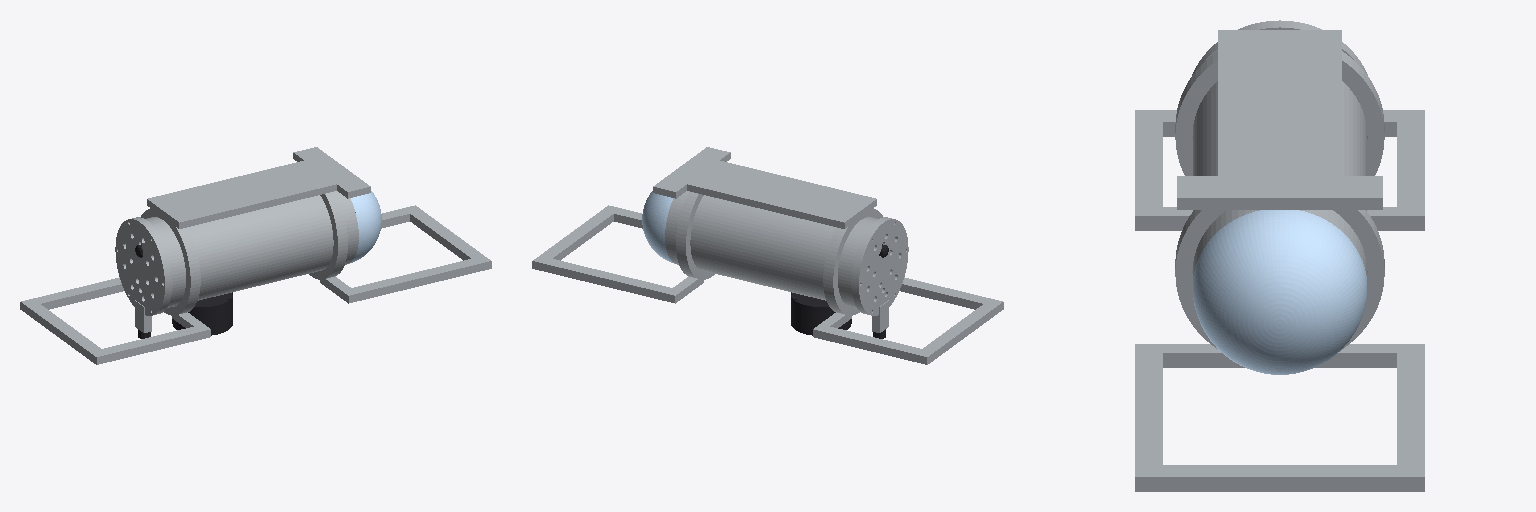
URDF robot description (hauv):
<?xml version="1.0"?>
<!--
  HAUV - starter URDF for RViz2.

  Frame: X forward, Y port, Z up. Origin on the pressure-tube axis, centred
  fore-aft. Matches the Fusion model exactly - every joint origin below was
  read straight out of the CAD, not measured off a drawing.

  Meshes are exported from Fusion in MILLIMETRES, hence scale="0.001 0.001 0.001"
  on every mesh. Removing that will make the vehicle 1000x too big.

  MESH PATHS use package://hauv_description/. Either
    (a) drop this folder into a ROS2 package called hauv_description, or
    (b) sed -i 's|package://hauv_description|file:///C:/Users/matma/Desktop/rov_ws - Copilot/Enclosure/model|' hauv.urdf
  for a quick standalone load.

  THRUSTERS are continuous joints about their own +X (the thrust axis), so
  publishing /joint_states will turn them. Caveat: t200.stl is the WHOLE
  thruster, so the duct turns with the rotor. To spin only the rotor, the
  propeller bodies need splitting out of the T200 STEP into their own mesh -
  a small extra export, not a redesign.

  Rotor direction is carried by the material: green = CW, blue = CCW, matching
  the diagonal pairing (T1/T4 CW, T2/T3 CCW, T5 CW, T6 CCW).
-->
<robot name="hauv">

  <material name="alu">      <color rgba="0.72 0.74 0.76 1.0"/></material>
  <material name="acrylic">  <color rgba="0.80 0.90 1.00 0.35"/></material>
  <material name="cw_green"> <color rgba="0.13 0.45 0.20 1.0"/></material>
  <material name="ccw_blue"> <color rgba="0.13 0.18 0.45 1.0"/></material>
  <material name="lightblue"><color rgba="0.45 0.70 0.90 1.0"/></material>
  <material name="pcb_green"><color rgba="0.10 0.35 0.15 1.0"/></material>
  <material name="dark">     <color rgba="0.20 0.20 0.22 1.0"/></material>
  <material name="grey">     <color rgba="0.55 0.55 0.58 1.0"/></material>

  <!-- ================= base_link: hull, mounts and internal payload ======
       These meshes were built directly in vehicle coordinates, so their
       vertices already carry the correct pose - origin is 0 0 0 for all. -->
  <link name="base_link">
    <visual><origin xyz="0 0 0" rpy="0 0 0"/>
      <geometry><mesh filename="package://hauv_description/meshes/main_tube.stl" scale="0.001 0.001 0.001"/></geometry>
      <material name="alu"/></visual>
    <visual><origin xyz="0 0 0" rpy="0 0 0"/>
      <geometry><mesh filename="package://hauv_description/meshes/cap_aft.stl" scale="0.001 0.001 0.001"/></geometry>
      <material name="alu"/></visual>
    <visual><origin xyz="0 0 0" rpy="0 0 0"/>
      <geometry><mesh filename="package://hauv_description/meshes/dome_fwd.stl" scale="0.001 0.001 0.001"/></geometry>
      <material name="acrylic"/></visual>
    <visual><origin xyz="0 0 0" rpy="0 0 0"/>
      <geometry><mesh filename="package://hauv_description/meshes/mount_fwd.stl" scale="0.001 0.001 0.001"/></geometry>
      <material name="alu"/></visual>
    <visual><origin xyz="0 0 0" rpy="0 0 0"/>
      <geometry><mesh filename="package://hauv_description/meshes/mount_aft.stl" scale="0.001 0.001 0.001"/></geometry>
      <material name="alu"/></visual>
    <visual><origin xyz="0 0 0" rpy="0 0 0"/>
      <geometry><mesh filename="package://hauv_description/meshes/tray.stl" scale="0.001 0.001 0.001"/></geometry>
      <material name="alu"/></visual>
    <visual><origin xyz="0 0 0" rpy="0 0 0"/>
      <geometry><mesh filename="package://hauv_description/meshes/dvl_head.stl" scale="0.001 0.001 0.001"/></geometry>
      <material name="dark"/></visual>
    <visual><origin xyz="0 0 0" rpy="0 0 0"/>
      <geometry><mesh filename="package://hauv_description/meshes/dvl_electronics.stl" scale="0.001 0.001 0.001"/></geometry>
      <material name="dark"/></visual>
    <visual><origin xyz="0 0 0" rpy="0 0 0"/>
      <geometry><mesh filename="package://hauv_description/meshes/upboard.stl" scale="0.001 0.001 0.001"/></geometry>
      <material name="pcb_green"/></visual>
    <visual><origin xyz="0 0 0" rpy="0 0 0"/>
      <geometry><mesh filename="package://hauv_description/meshes/esp32.stl" scale="0.001 0.001 0.001"/></geometry>
      <material name="pcb_green"/></visual>
    <visual><origin xyz="0 0 0" rpy="0 0 0"/>
      <geometry><mesh filename="package://hauv_description/meshes/battery_large_20Ah.stl" scale="0.001 0.001 0.001"/></geometry>
      <material name="lightblue"/></visual>
    <visual><origin xyz="0 0 0" rpy="0 0 0"/>
      <geometry><mesh filename="package://hauv_description/meshes/battery_small_1p2Ah.stl" scale="0.001 0.001 0.001"/></geometry>
      <material name="lightblue"/></visual>

    <!-- coarse hull collision: the pressure tube, axis along X -->
    <collision><origin xyz="-0.0226 0 0" rpy="0 1.5707963 0"/>
      <geometry><cylinder radius="0.0635" length="0.300"/></geometry></collision>

    <inertial>
      <origin xyz="-0.02 0 -0.01" rpy="0 0 0"/>
      <mass value="5.531"/>
      <inertia ixx="0.045" ixy="0" ixz="0" iyy="0.180" iyz="0" izz="0.180"/>
    </inertial>
  </link>

  <!-- ================= thrusters: continuous about local +X ============== -->

  <link name="t1_front_left">
    <visual><origin xyz="0 0 0" rpy="0 0 0"/>
      <geometry><mesh filename="package://hauv_description/meshes/t200.stl" scale="0.001 0.001 0.001"/></geometry>
      <material name="cw_green"/></visual>
  </link>
  <joint name="t1_front_left_joint" type="continuous">
    <parent link="base_link"/><child link="t1_front_left"/>
    <origin xyz="0.24760 0.09260 -0.01400" rpy="0 0 0.785398"/>
    <axis xyz="1 0 0"/>
  </joint>

  <link name="t2_front_right">
    <visual><origin xyz="0 0 0" rpy="0 0 0"/>
      <geometry><mesh filename="package://hauv_description/meshes/t200.stl" scale="0.001 0.001 0.001"/></geometry>
      <material name="ccw_blue"/></visual>
  </link>
  <joint name="t2_front_right_joint" type="continuous">
    <parent link="base_link"/><child link="t2_front_right"/>
    <origin xyz="0.24760 -0.09260 -0.01400" rpy="0 0 -0.785398"/>
    <axis xyz="1 0 0"/>
  </joint>

  <link name="t3_rear_left">
    <visual><origin xyz="0 0 0" rpy="0 0 0"/>
      <geometry><mesh filename="package://hauv_description/meshes/t200.stl" scale="0.001 0.001 0.001"/></geometry>
      <material name="ccw_blue"/></visual>
  </link>
  <joint name="t3_rear_left_joint" type="continuous">
    <parent link="base_link"/><child link="t3_rear_left"/>
    <origin xyz="-0.25240 0.09740 -0.01400" rpy="0 0 -0.785398"/>
    <axis xyz="1 0 0"/>
  </joint>

  <link name="t4_rear_right">
    <visual><origin xyz="0 0 0" rpy="0 0 0"/>
      <geometry><mesh filename="package://hauv_description/meshes/t200.stl" scale="0.001 0.001 0.001"/></geometry>
      <material name="cw_green"/></visual>
  </link>
  <joint name="t4_rear_right_joint" type="continuous">
    <parent link="base_link"/><child link="t4_rear_right"/>
    <origin xyz="-0.25240 -0.09740 -0.01400" rpy="0 0 0.785398"/>
    <axis xyz="1 0 0"/>
  </joint>

  <link name="t5_vert_front">
    <visual><origin xyz="0 0 0" rpy="0 0 0"/>
      <geometry><mesh filename="package://hauv_description/meshes/t200.stl" scale="0.001 0.001 0.001"/></geometry>
      <material name="cw_green"/></visual>
  </link>
  <joint name="t5_vert_front_joint" type="continuous">
    <parent link="base_link"/><child link="t5_vert_front"/>
    <origin xyz="0.30360 0 0.00440" rpy="0 -1.570796 -3.141593"/>
    <axis xyz="1 0 0"/>
  </joint>

  <link name="t6_vert_rear">
    <visual><origin xyz="0 0 0" rpy="0 0 0"/>
      <geometry><mesh filename="package://hauv_description/meshes/t200.stl" scale="0.001 0.001 0.001"/></geometry>
      <material name="ccw_blue"/></visual>
  </link>
  <joint name="t6_vert_rear_joint" type="continuous">
    <parent link="base_link"/><child link="t6_vert_rear"/>
    <origin xyz="-0.30640 0 0.00440" rpy="0 -1.570796 -3.141593"/>
    <axis xyz="1 0 0"/>
  </joint>

  <!-- ================= lights (fixed) ==================================
       The odd-looking origins are correct: the vendor Lumen mesh is not
       centred on its own origin (its local Y runs 372..409 mm), so the joint
       offset cancels that. Do not "tidy" these numbers. -->

  <link name="light_lower_left">
    <visual><origin xyz="0 0 0" rpy="0 0 0"/>
      <geometry><mesh filename="package://hauv_description/meshes/lumen.stl" scale="0.001 0.001 0.001"/></geometry>
      <material name="grey"/></visual>
  </link>
  <joint name="light_lower_left_joint" type="fixed">
    <parent link="base_link"/><child link="light_lower_left"/>
    <origin xyz="0.13630 0.11500 -0.49450" rpy="1.570796 0 -1.570796"/>
  </joint>

  <link name="light_lower_right">
    <visual><origin xyz="0 0 0" rpy="0 0 0"/>
      <geometry><mesh filename="package://hauv_description/meshes/lumen.stl" scale="0.001 0.001 0.001"/></geometry>
      <material name="grey"/></visual>
  </link>
  <joint name="light_lower_right_joint" type="fixed">
    <parent link="base_link"/><child link="light_lower_right"/>
    <origin xyz="0.13630 -0.07500 -0.49450" rpy="1.570796 0 -1.570796"/>
  </joint>

  <link name="light_upper_left">
    <visual><origin xyz="0 0 0" rpy="0 0 0"/>
      <geometry><mesh filename="package://hauv_description/meshes/lumen.stl" scale="0.001 0.001 0.001"/></geometry>
      <material name="grey"/></visual>
  </link>
  <joint name="light_upper_left_joint" type="fixed">
    <parent link="base_link"/><child link="light_upper_left"/>
    <origin xyz="0.13630 0.06500 -0.28580" rpy="1.570796 0 -1.570796"/>
  </joint>

  <link name="light_upper_right">
    <visual><origin xyz="0 0 0" rpy="0 0 0"/>
      <geometry><mesh filename="package://hauv_description/meshes/lumen.stl" scale="0.001 0.001 0.001"/></geometry>
      <material name="grey"/></visual>
  </link>
  <joint name="light_upper_right_joint" type="fixed">
    <parent link="base_link"/><child link="light_upper_right"/>
    <origin xyz="0.13630 -0.02500 -0.28580" rpy="1.570796 0 -1.570796"/>
  </joint>

  <!-- ================= sensors (fixed) ================================= -->

  <link name="subsonus">
    <visual><origin xyz="0 0 0" rpy="0 0 0"/>
      <geometry><mesh filename="package://hauv_description/meshes/subsonus.stl" scale="0.001 0.001 0.001"/></geometry>
      <material name="grey"/></visual>
  </link>
  <joint name="subsonus_joint" type="fixed">
    <parent link="base_link"/><child link="subsonus"/>
    <origin xyz="-0.04000 0 0.07860" rpy="1.570796 0 1.570796"/>
  </joint>

  <link name="bar30">
    <visual><origin xyz="0 0 0" rpy="0 0 0"/>
      <geometry><mesh filename="package://hauv_description/meshes/bar30.stl" scale="0.001 0.001 0.001"/></geometry>
      <material name="dark"/></visual>
  </link>
  <joint name="bar30_joint" type="fixed">
    <parent link="base_link"/><child link="bar30"/>
    <origin xyz="-0.17850 0 -0.09500" rpy="-1.570796 0 0"/>
  </joint>

  <link name="indicator">
    <visual><origin xyz="0 0 0" rpy="0 0 0"/>
      <geometry><mesh filename="package://hauv_description/meshes/indicator.stl" scale="0.001 0.001 0.001"/></geometry>
      <material name="dark"/></visual>
  </link>
  <joint name="indicator_joint" type="fixed">
    <parent link="base_link"/><child link="indicator"/>
    <origin xyz="-0.19000 0 0.02500" rpy="0 0 1.570796"/>
  </joint>

  <!-- ================= useful reference frames ========================= -->

  <link name="camera_link"/>
  <joint name="camera_joint" type="fixed">
    <parent link="base_link"/><child link="camera_link"/>
    <origin xyz="0.1274 0 0" rpy="0 0 0"/>
  </joint>

  <link name="dvl_link"/>
  <joint name="dvl_joint" type="fixed">
    <parent link="base_link"/><child link="dvl_link"/>
    <origin xyz="-0.0850 0 -0.1083" rpy="0 0 0"/>
  </joint>

</robot>

--- Facts derived from the render (not from the file) ---
The picture shows the robot from 3 angles, left to right: view 1: azimuth 30°, elevation 25°; view 2: azimuth 150°, elevation 25°; view 3: azimuth 270°, elevation 25°; orthographic projection.
Model hauv with 16 links and 15 joints (6 continuous, 9 fixed), rooted at base_link, posed all joints at 0.
Visible links, largest first — view 1: base_link; view 2: base_link; view 3: base_link.
Boxes of the visible links, box(x1,y1,x2,y2) form: base_link: box(20, 147, 491, 364); base_link: box(532, 147, 1003, 364); base_link: box(1135, 20, 1424, 491).
Size in the robot's own frame: 0.63 by 0.21 by 0.1863 metres.
Meshes: 17 distinct files referenced, 14 mesh visuals loaded (14 binary STL); not drawn: 11 (reference not matched to a file when rendering).
